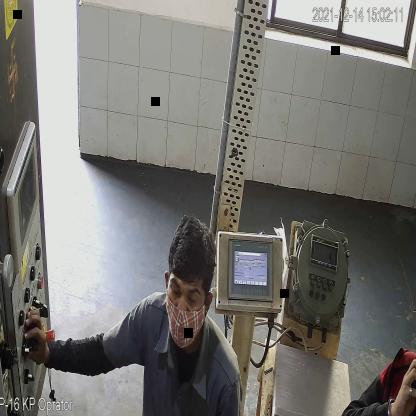no_goggles: (170, 279, 202, 311)
